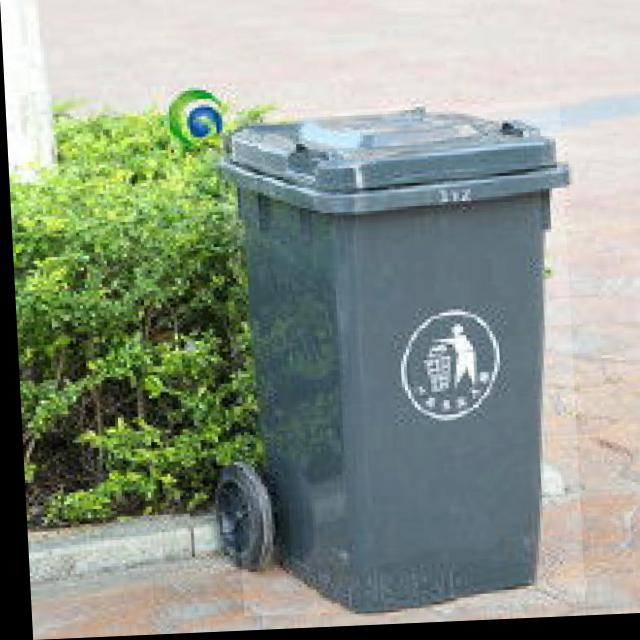garbage_bin: (217, 106, 578, 618)
